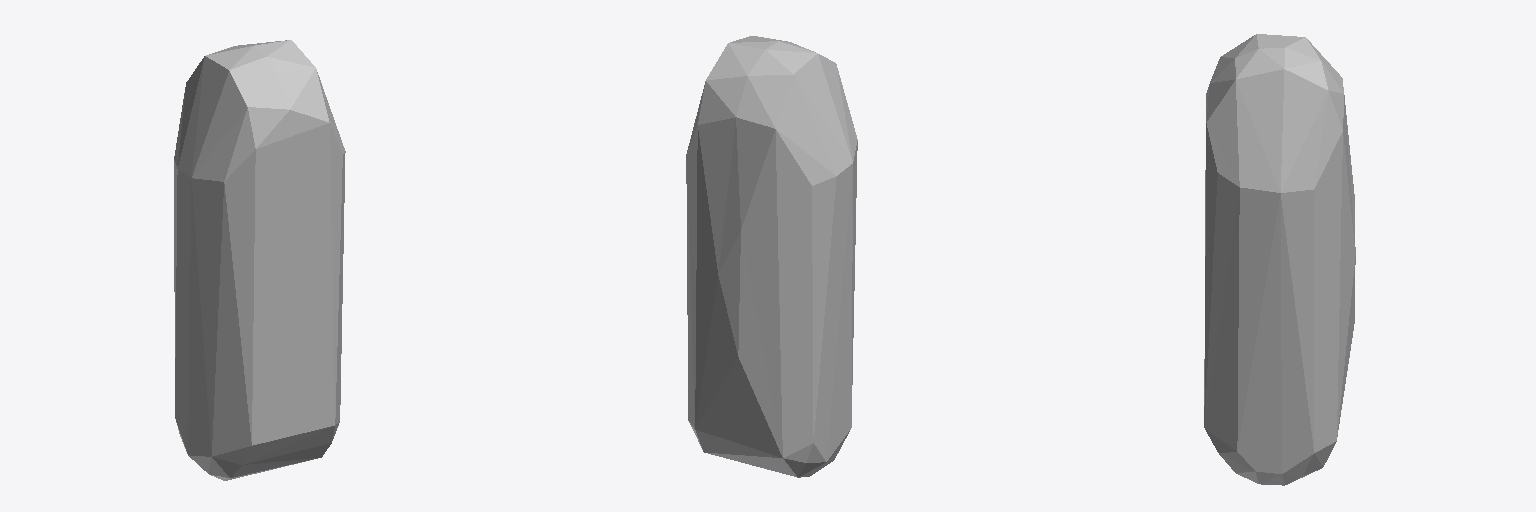
The model's file is middle_inter_col.obj.
3 renders of one model, left to right at view 1: azimuth 30°, elevation 25°; view 2: azimuth 150°, elevation 25°; view 3: azimuth 270°, elevation 25°, orthographic.
Bounding box in the file's own units: 0.0206 × 0.0549 × 0.0181.